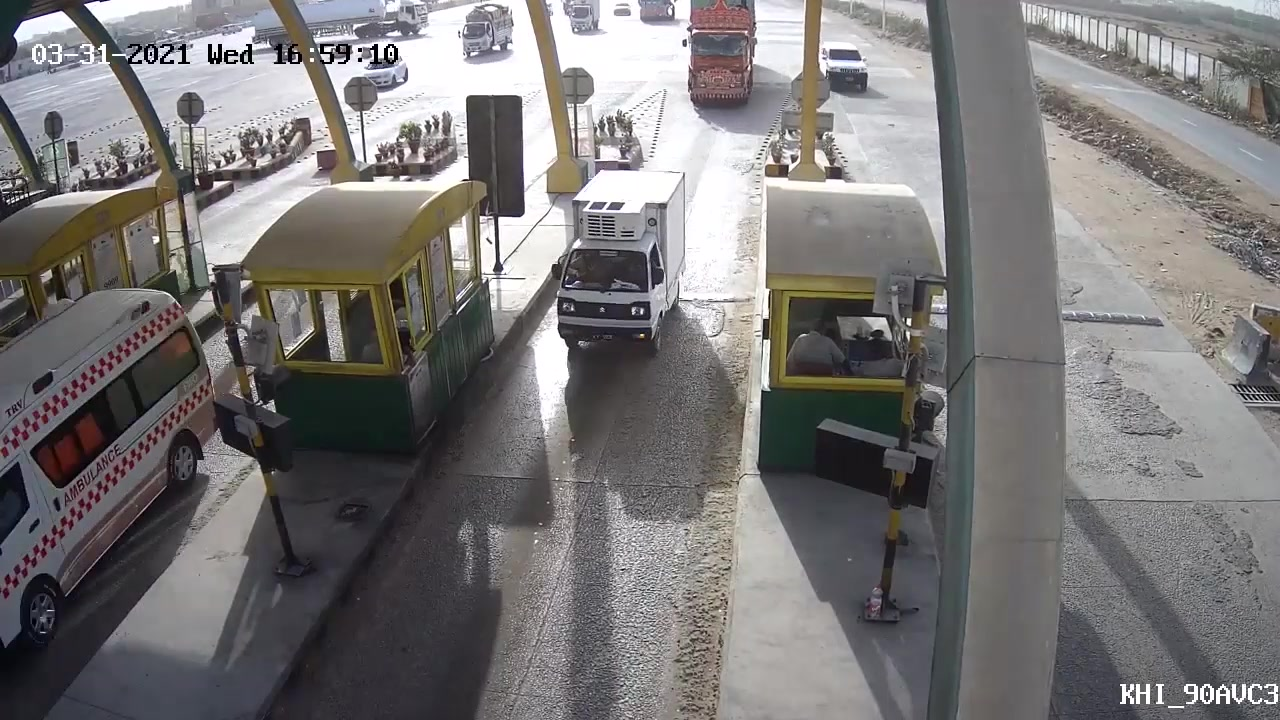F1: (542, 165, 690, 362)
F5: (679, 4, 763, 111)
